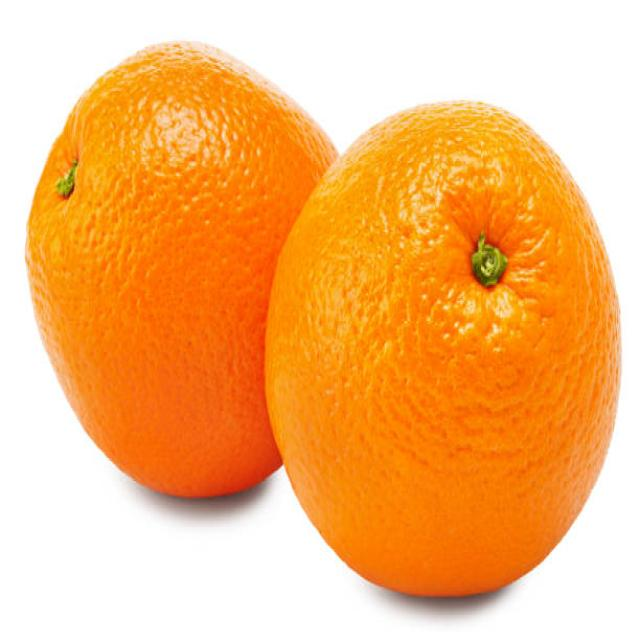Ripe: (266, 92, 622, 602), (20, 38, 316, 504)
